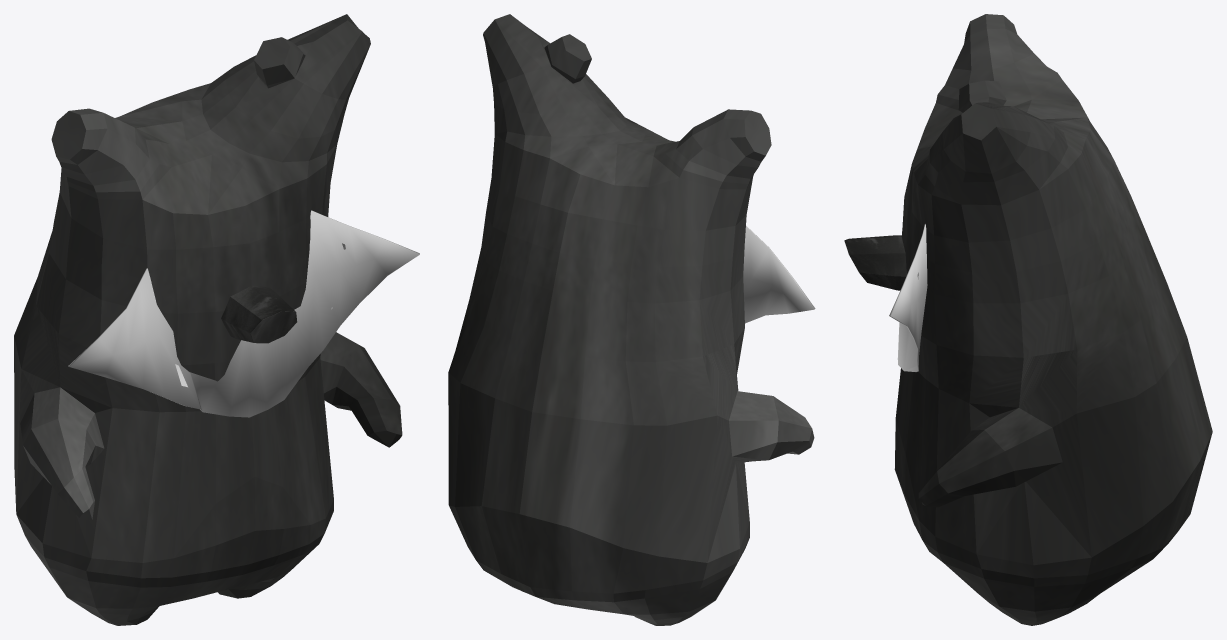
Rendered from frame_0003.obj.
The picture shows the model from 3 angles, left to right: view 1: azimuth 30°, elevation 25°; view 2: azimuth 150°, elevation 25°; view 3: azimuth 270°, elevation 25°; orthographic projection. The views are drawn at different scales.
Visible parts, largest first — view 1: korok, leaf, nose; view 2: korok, leaf; view 3: korok, leaf, nose.
Part boxes in pixels (left/top/right/bottom): korok: left=14, top=14, right=402, bottom=625; leaf: left=68, top=210, right=419, bottom=417; nose: left=221, top=285, right=297, bottom=343; korok: left=448, top=14, right=814, bottom=625; leaf: left=743, top=226, right=815, bottom=323; korok: left=894, top=14, right=1212, bottom=625; leaf: left=889, top=224, right=927, bottom=371; nose: left=844, top=235, right=906, bottom=290.
Bounding box in the file's own units: 1.38 × 2.23 × 1.34.
